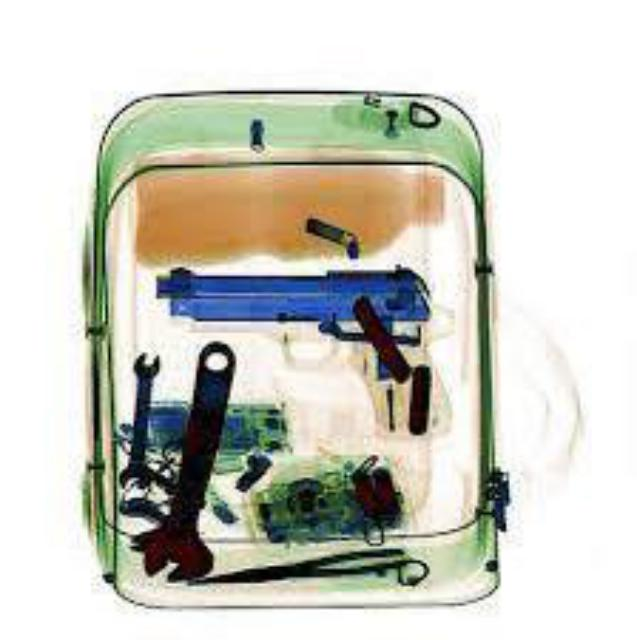Gun: (145, 258, 428, 378)
Wrench: (128, 338, 234, 576), (113, 348, 160, 487)
